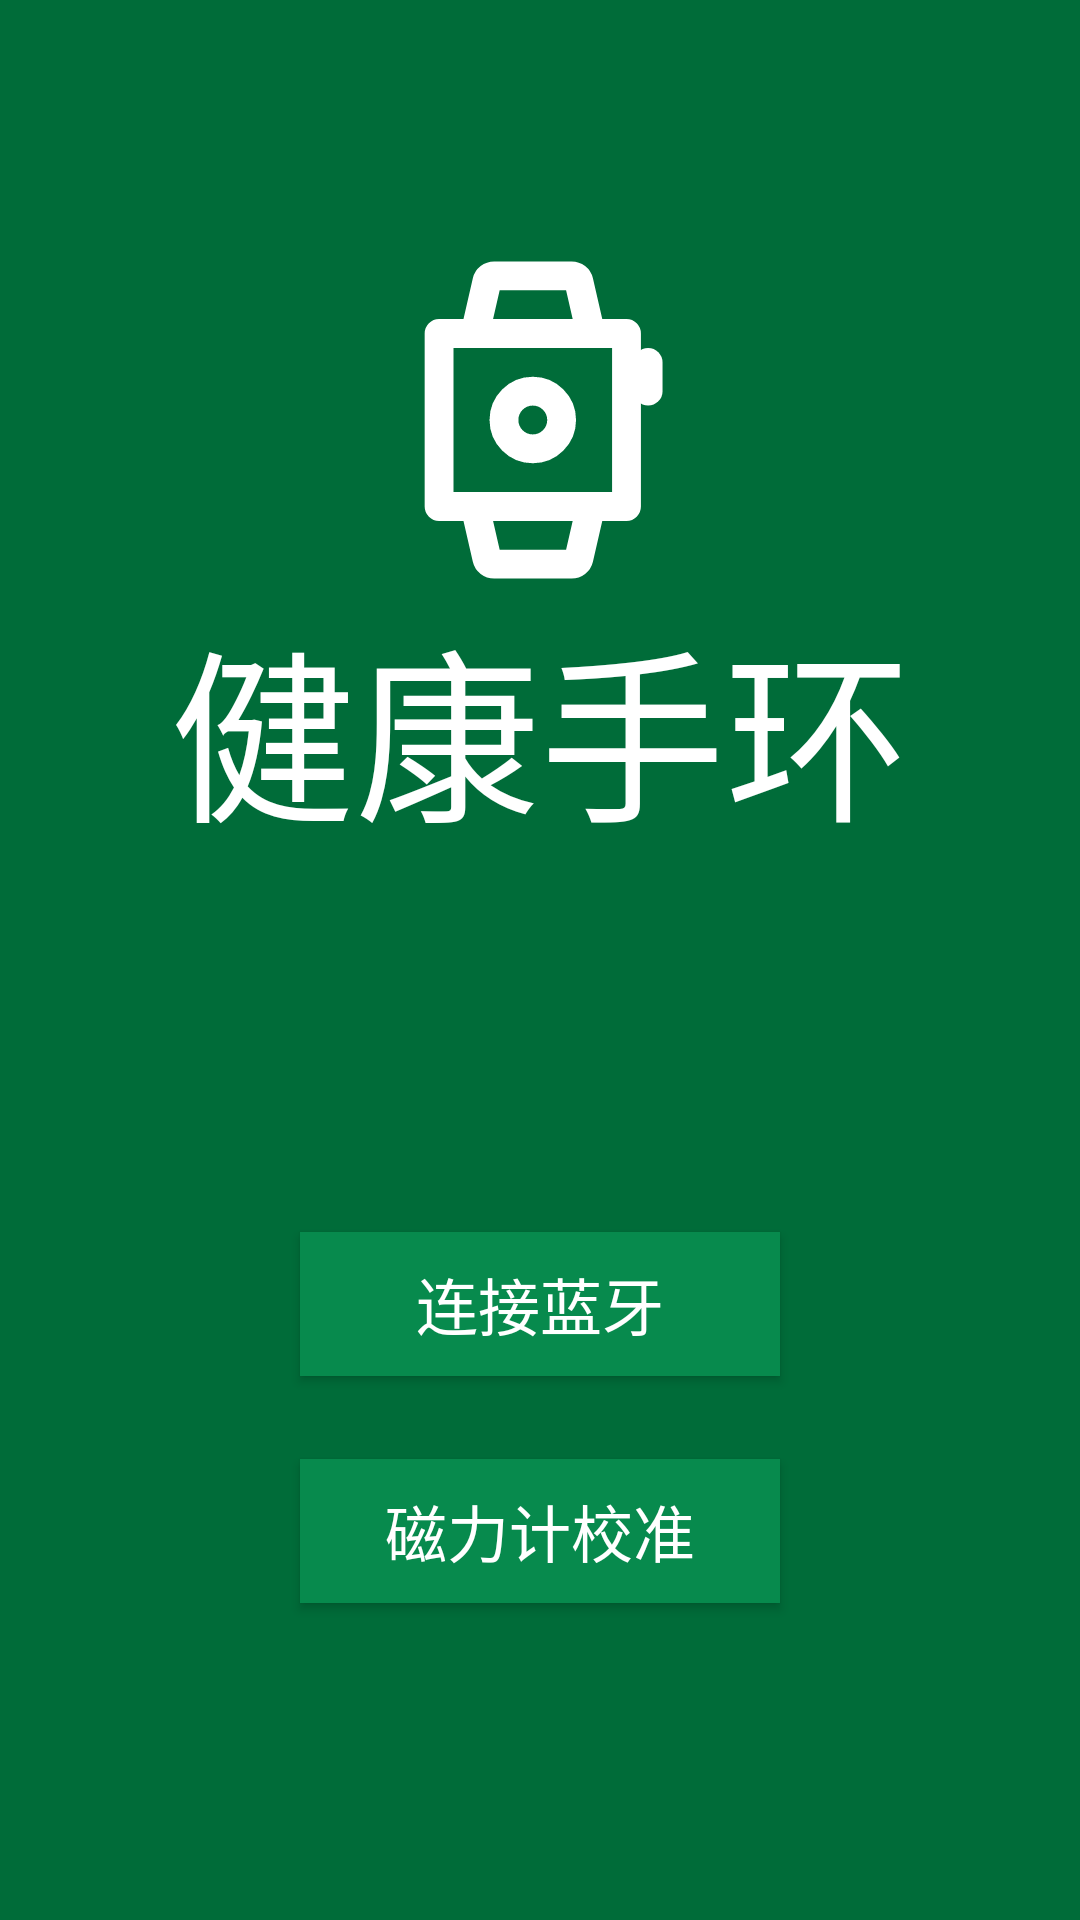

Point at icon controls on the screen. Image size 1080px x 1920px, points as (x,y).
iwatch: (543,420)
